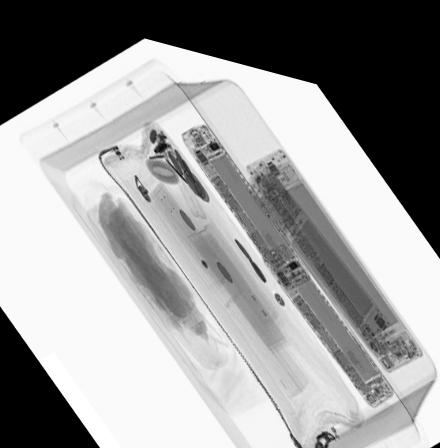Lighter: (150, 120, 207, 207)
